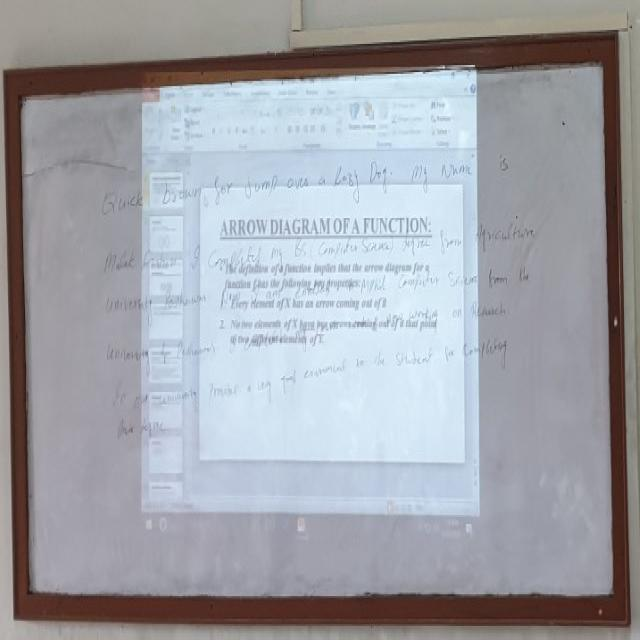Slide: (139, 57, 482, 549)
White-board: (10, 43, 626, 611)
